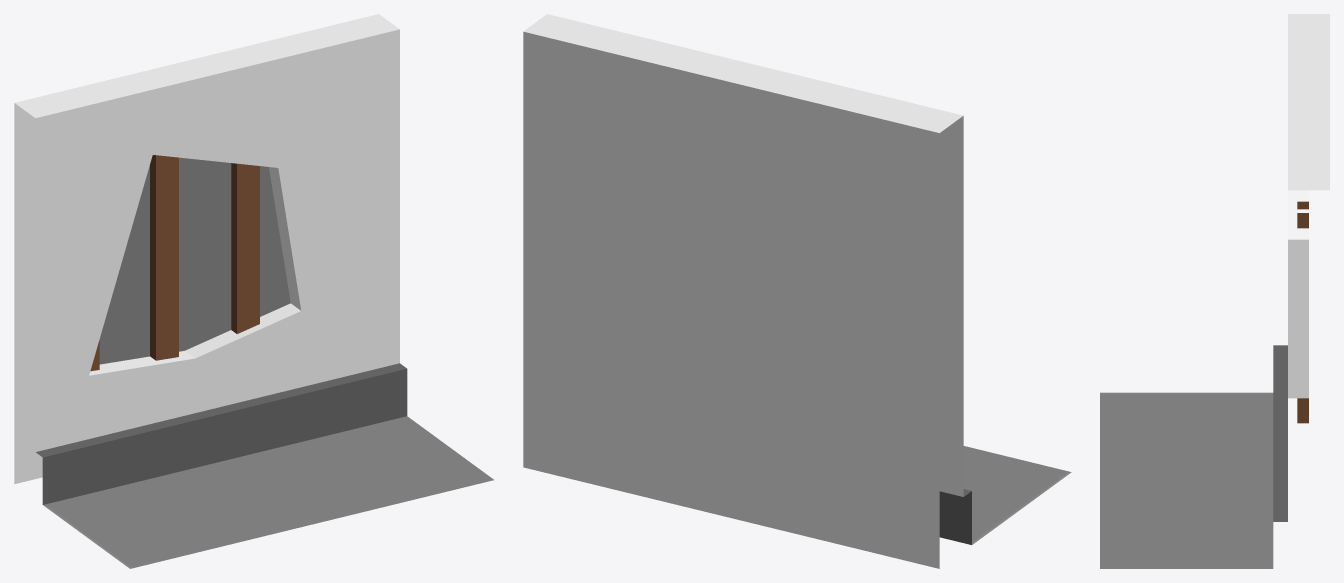
File: E_Wall_Straight_Cracked_5.fbx
The picture shows the model from 3 angles, left to right: view 1: azimuth 30°, elevation 25°; view 2: azimuth 150°, elevation 25°; view 3: azimuth 270°, elevation 25°; orthographic projection. The views are drawn at different scales.
Visible parts, largest first — view 1: E_Wall_Straight_Cracked_5; view 2: E_Wall_Straight_Cracked_5; view 3: E_Wall_Straight_Cracked_5.
Part boxes in pixels (box(x1,y1,x2,y2)): E_Wall_Straight_Cracked_5: box(14, 14, 493, 568); E_Wall_Straight_Cracked_5: box(523, 14, 1071, 568); E_Wall_Straight_Cracked_5: box(1100, 14, 1329, 568).
Size of the model in its own units: 200 by 200 by 110.
